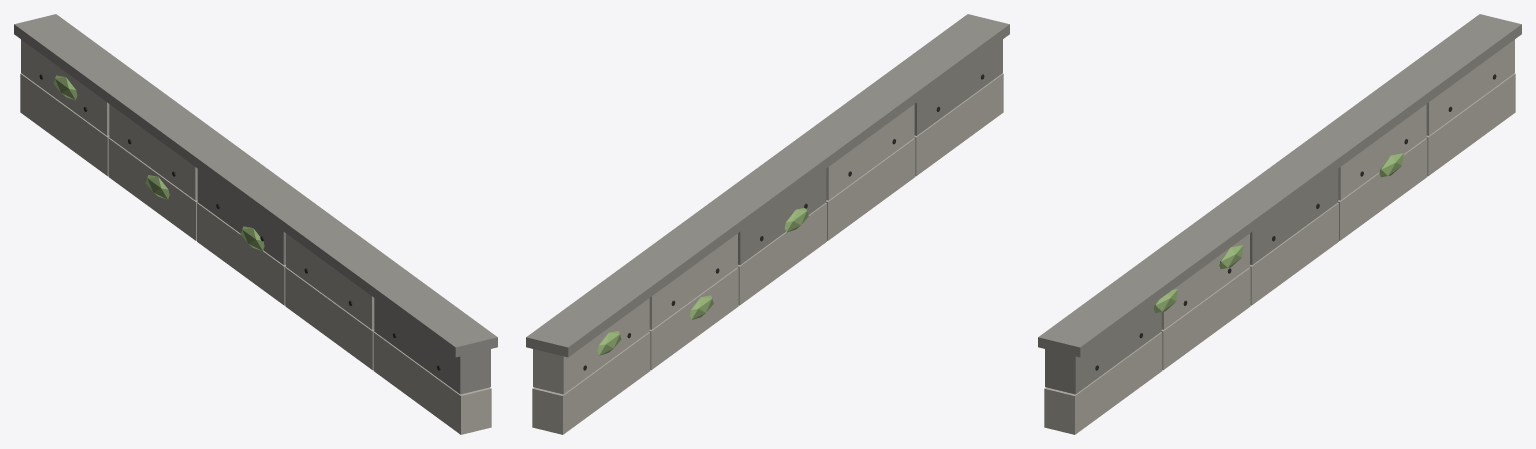
Rendered from Track_Wall.fbx.
3 renders of one model, left to right at view 1: azimuth 30°, elevation 25°; view 2: azimuth 150°, elevation 25°; view 3: azimuth 330°, elevation 25°, orthographic.
Parts seen in each view (by area): view 1: Track_Wall; view 2: Track_Wall; view 3: Track_Wall.
Boxes of the visible parts, box(x1,y1,x2,y2) form: Track_Wall: box(14, 14, 497, 434); Track_Wall: box(526, 14, 1009, 434); Track_Wall: box(1038, 14, 1521, 434).
Bounding box in the file's own units: 1.1 × 2.23 × 20.
